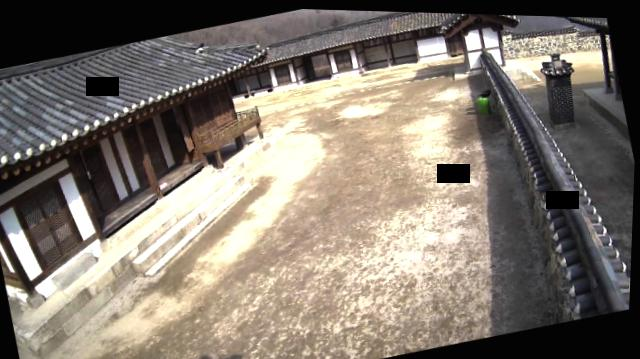bag: (476, 91, 493, 112)
